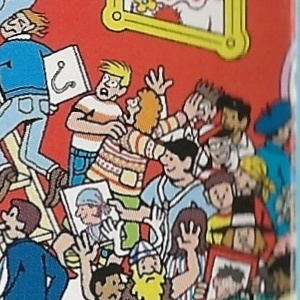Wenda: (193, 120, 235, 180)
